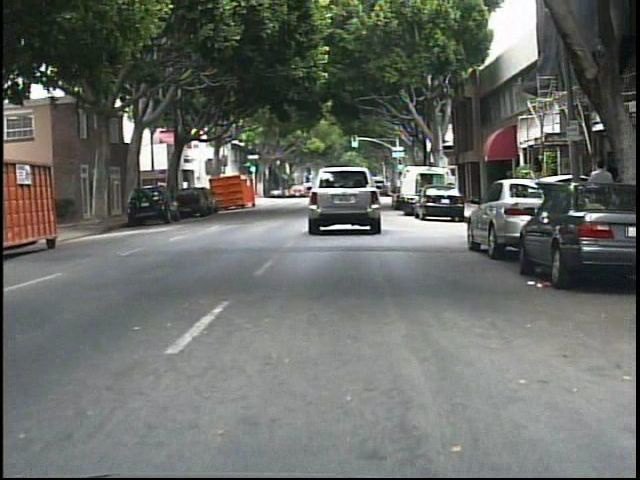person: (583, 154, 618, 243)
